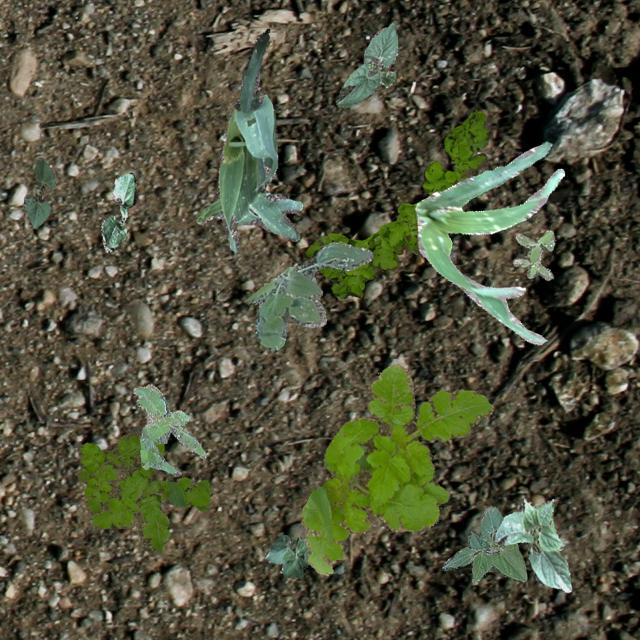crop: (414, 142, 564, 344), (195, 28, 302, 252), (492, 496, 570, 592), (440, 506, 526, 582), (334, 22, 396, 106), (100, 172, 136, 252), (22, 158, 54, 228), (264, 534, 310, 578)
weed: (300, 363, 492, 574), (302, 109, 488, 298), (76, 432, 210, 554), (245, 240, 372, 350), (132, 384, 205, 476), (512, 230, 554, 280)
